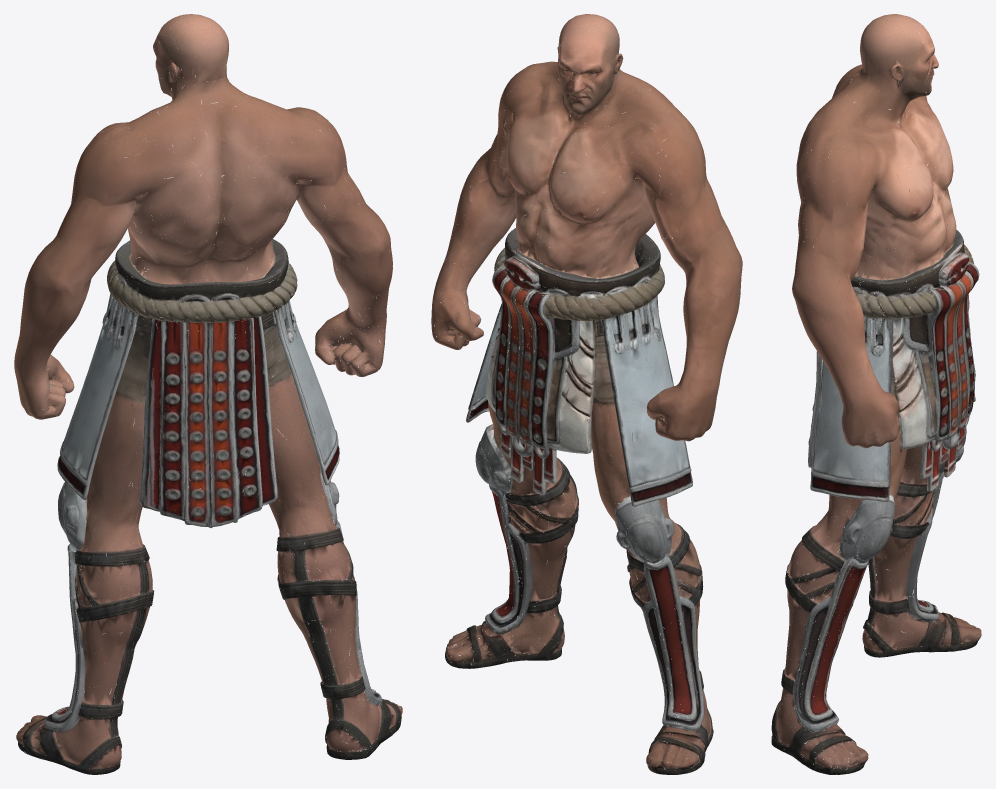
File: redeemed-warrior.glb
3 renders of one model, left to right at view 1: azimuth 30°, elevation 25°; view 2: azimuth 150°, elevation 25°; view 3: azimuth 270°, elevation 25°, orthographic. The views are drawn at different scales.
Parts seen in each view (by area): view 1: WarriorPart4, WarriorPart3, WarriorPart7, WarriorPart6, WarriorPart0, WarriorPart1, WarriorPart5, WarriorPart2; view 2: WarriorPart3, WarriorPart4, WarriorPart6, WarriorPart5, WarriorPart1, WarriorPart7, WarriorPart0, WarriorPart2; view 3: WarriorPart5, WarriorPart4, WarriorPart6, WarriorPart2, WarriorPart3, WarriorPart0, WarriorPart1, WarriorPart7.
Part boxes in pixels (left/top/right/bottom): WarriorPart4: left=25, top=75, right=371, bottom=765; WarriorPart3: left=14, top=123, right=402, bottom=774; WarriorPart7: left=59, top=25, right=253, bottom=638; WarriorPart6: left=124, top=14, right=400, bottom=750; WarriorPart0: left=18, top=212, right=286, bottom=774; WarriorPart1: left=96, top=17, right=335, bottom=625; WarriorPart5: left=216, top=115, right=400, bottom=759; WarriorPart2: left=193, top=239, right=379, bottom=759; WarriorPart3: left=432, top=105, right=742, bottom=774; WarriorPart4: left=478, top=61, right=690, bottom=770; WarriorPart6: left=431, top=14, right=644, bottom=668; WarriorPart5: left=431, top=62, right=561, bottom=668; WarriorPart1: left=520, top=29, right=650, bottom=583; WarriorPart7: left=587, top=25, right=665, bottom=656; WarriorPart0: left=487, top=173, right=711, bottom=774; WarriorPart2: left=480, top=211, right=574, bottom=660; WarriorPart5: left=772, top=131, right=972, bottom=768; WarriorPart4: left=771, top=64, right=978, bottom=743; WarriorPart6: left=778, top=14, right=978, bottom=773; WarriorPart2: left=771, top=204, right=973, bottom=749; WarriorPart3: left=793, top=69, right=978, bottom=774; WarriorPart0: left=862, top=221, right=981, bottom=657; WarriorPart1: left=788, top=16, right=979, bottom=565; WarriorPart7: left=833, top=70, right=975, bottom=651.
Size of the model in its own units: 0.895 by 1.85 by 0.5192.
Materials: 1 (1 with a texture image).
